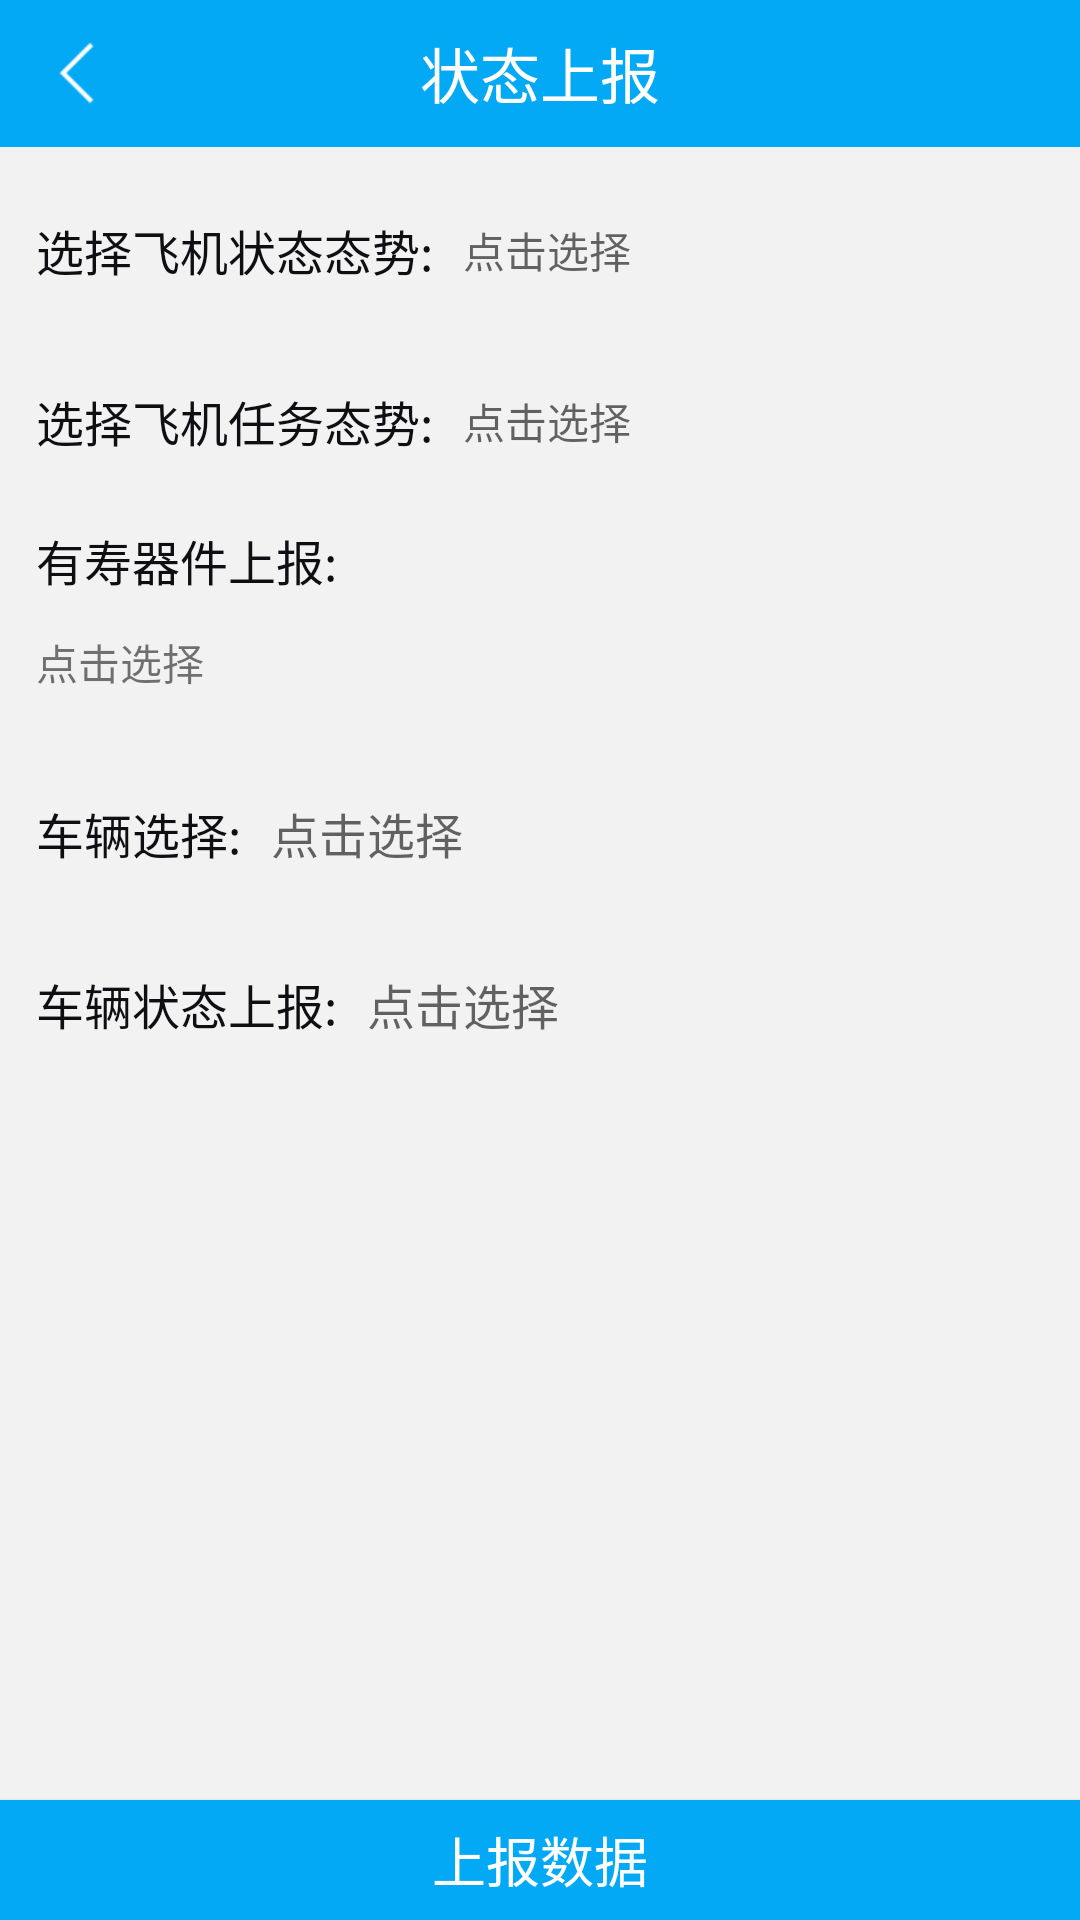

Named icons in this screenshot (1080x1920) and their bounding boxes, (x1, y1, x2, y2):
back: (59, 43, 94, 103)
